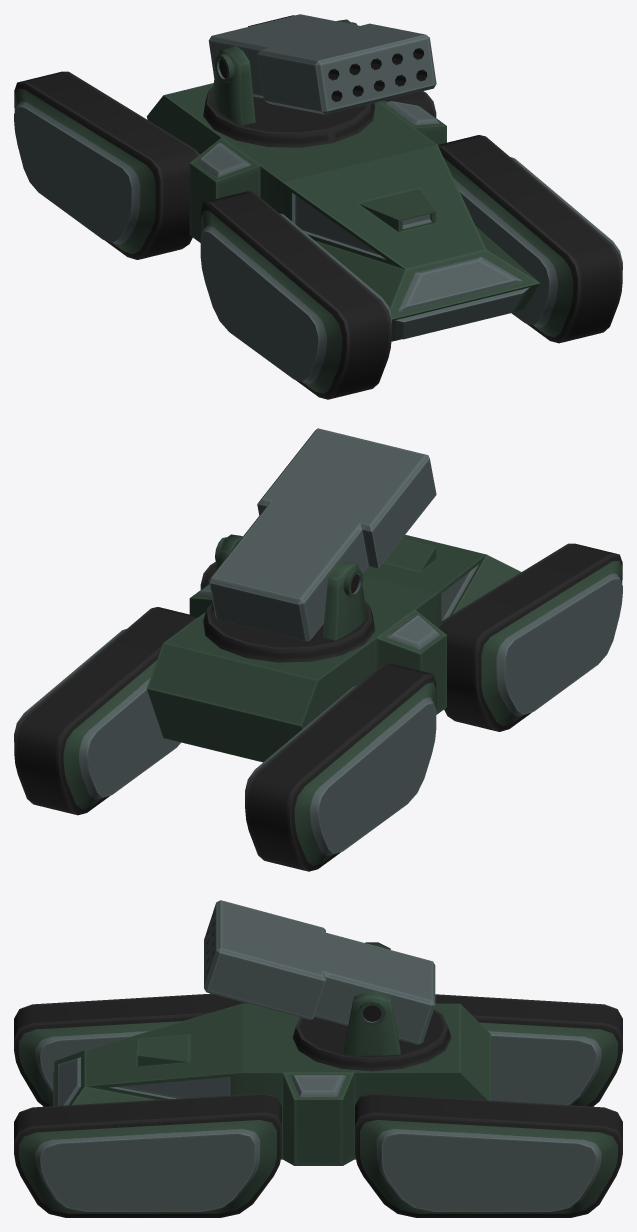
The model's file is tank_2.fbx.
3 views of the same model, one above another, from view 1: azimuth 30°, elevation 25°; view 2: azimuth 150°, elevation 25°; view 3: azimuth 270°, elevation 25° (orthographic). The views are drawn at different scales.
Parts seen in each view (by area): view 1: tank_2; view 2: tank_2; view 3: tank_2.
Part boxes in pixels (x1=…): tank_2: x1=14, y1=14, x2=622, y2=399; tank_2: x1=14, y1=428, x2=622, y2=871; tank_2: x1=14, y1=900, x2=622, y2=1217.
Bounding box in the file's own units: 89.59 × 71.32 × 170.
1 material, 1 textured.
